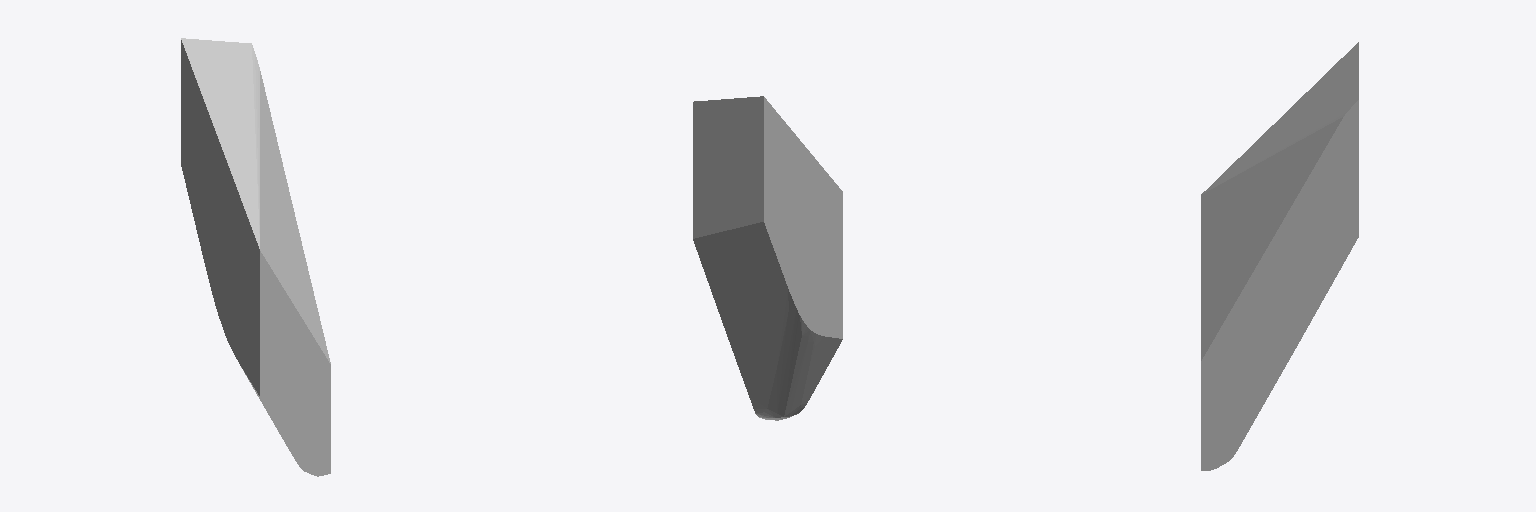
File: Bowl_21_collision_24.obj
The picture shows the model from 3 angles: view 1: azimuth 30°, elevation 25°; view 2: azimuth 150°, elevation 25°; view 3: azimuth 270°, elevation 25°; orthographic projection.
Size of the model in its own units: 0.0166 by 0.0883 by 0.0322.